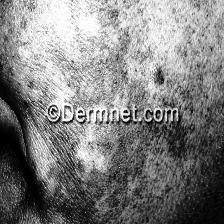Benign Marking or Mole: (75, 135, 110, 179), (151, 67, 167, 86)
